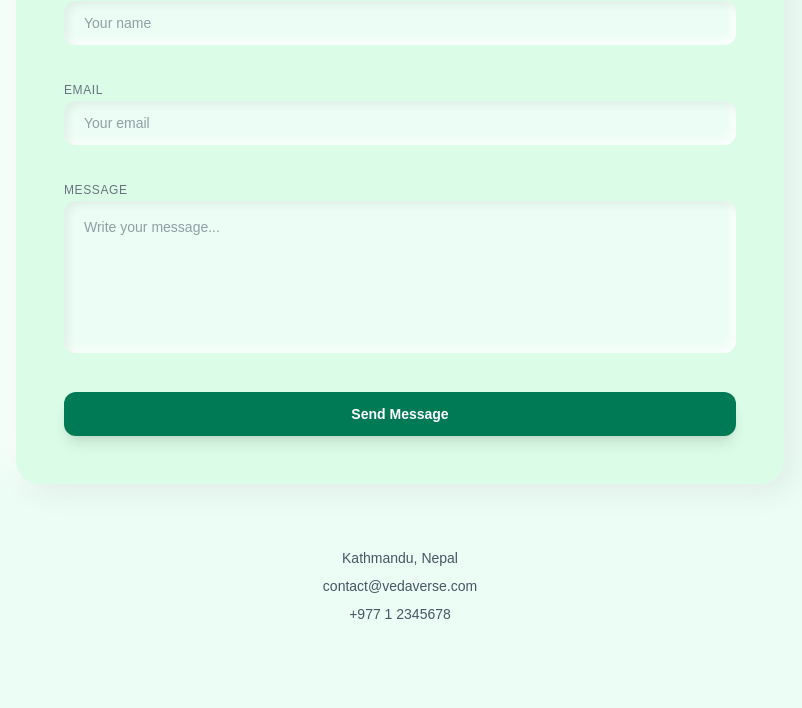
Test case: ContactPage Component › shows validation errors when submitting empty form
This screenshot has width=802, height=708.
(page scrolled)
What coordinates should you click on to do the following:
click the button "Send Message"
I would click on:
 (400, 414)
Its box is 64,392 -> 736,436.
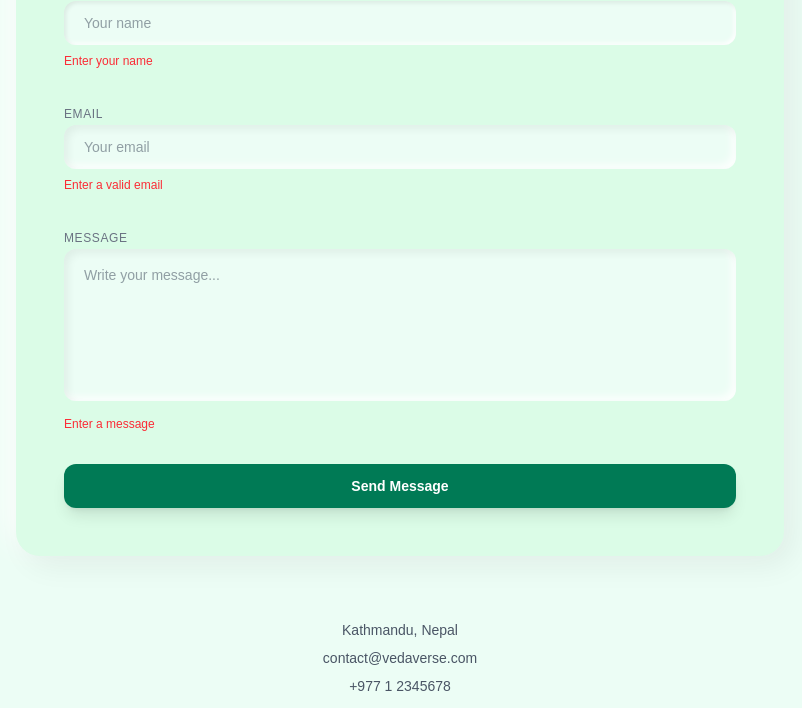
Check: the text "Enter your name" is shown, box 64,54 -> 153,68
Check: the text "Enter a valid email" is shown, box 64,178 -> 163,192
Check: the text "Enter a message" is shown, box 64,417 -> 155,431
